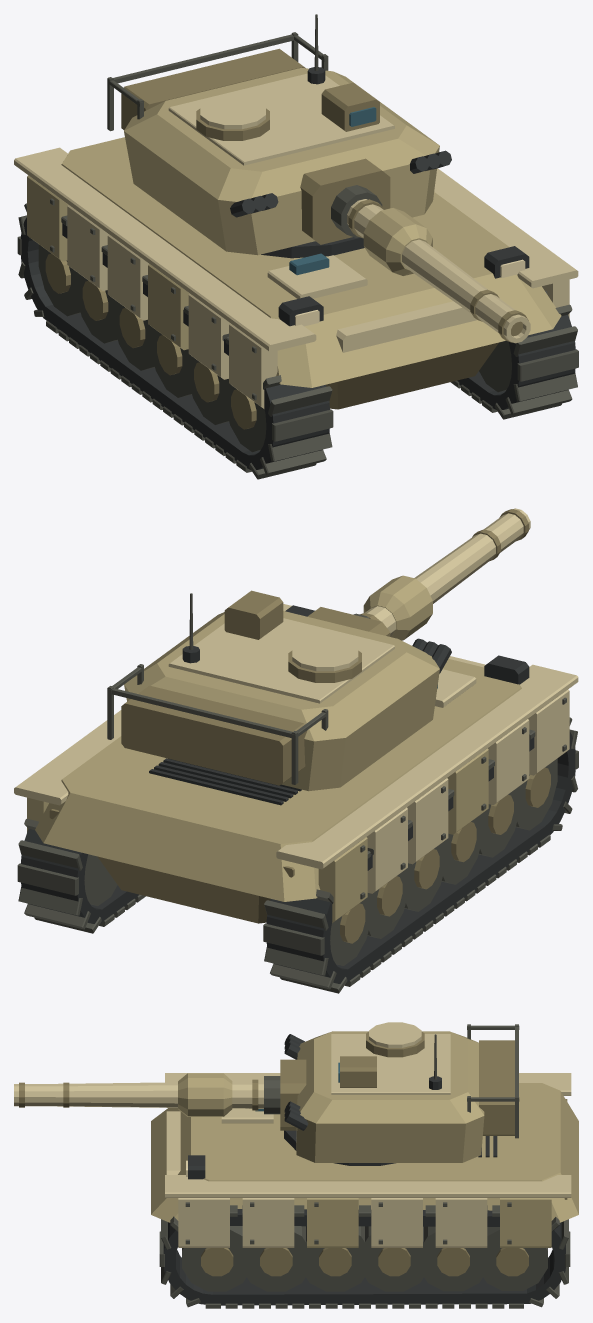
The model's file is Tank.obj.
3 renders of one model, top to bottom at view 1: azimuth 30°, elevation 25°; view 2: azimuth 150°, elevation 25°; view 3: azimuth 270°, elevation 25°, orthographic. The views are drawn at different scales.
Visible parts, largest first — view 1: UpperHull, TurretArmor, FenderL, TrackBeltL, TurretRoof, GunBarrel, LowerHull, RearStorage, FenderR, Mantlet, FrontArmor, FumeExtractor (+38 smaller); view 2: UpperHull, TurretArmor, RearStorage, FenderL, TrackBeltL, TurretRoof, LowerHull, GunBarrel, FenderR, FumeExtractor, SkirtL0, TrackBeltR (+37 smaller); view 3: UpperHull, TurretArmor, TrackBeltR, FenderR, TurretRoof, GunBarrel, RearStorage, SkirtR1, SkirtR4, SkirtR0, SkirtR3, SkirtR2 (+23 smaller).
Boxes of the visible parts, bbox=[...] form: UpperHull: bbox=[61, 137, 561, 387]; TurretArmor: bbox=[124, 67, 439, 255]; FenderL: bbox=[14, 147, 316, 352]; TrackBeltL: bbox=[21, 217, 329, 469]; TurretRoof: bbox=[168, 73, 394, 165]; GunBarrel: bbox=[347, 199, 530, 343]; LowerHull: bbox=[326, 342, 498, 409]; RearStorage: bbox=[121, 48, 305, 129]; FenderR: bbox=[434, 168, 578, 288]; Mantlet: bbox=[300, 158, 390, 244]; FrontArmor: bbox=[336, 301, 476, 352]; FumeExtractor: bbox=[363, 208, 432, 275]; UpperHull: bbox=[35, 659, 521, 901]; TurretArmor: bbox=[124, 611, 439, 791]; RearStorage: bbox=[121, 685, 307, 785]; FenderL: bbox=[276, 664, 578, 869]; TrackBeltL: bbox=[266, 731, 575, 983]; TurretRoof: bbox=[168, 618, 394, 703]; LowerHull: bbox=[97, 856, 270, 923]; GunBarrel: bbox=[365, 508, 530, 636]; FenderR: bbox=[14, 604, 291, 805]; FumeExtractor: bbox=[363, 575, 432, 640]; SkirtL0: bbox=[318, 837, 367, 922]; TrackBeltR: bbox=[21, 828, 138, 923]; UpperHull: bbox=[151, 1083, 578, 1222]; TurretArmor: bbox=[296, 1031, 484, 1162]; TrackBeltR: bbox=[163, 1209, 565, 1305]; FenderR: bbox=[165, 1175, 571, 1197]; TurretRoof: bbox=[331, 1034, 450, 1094]; GunBarrel: bbox=[14, 1081, 263, 1108]; RearStorage: bbox=[479, 1040, 514, 1135]; SkirtR1: bbox=[435, 1198, 487, 1247]; SkirtR4: bbox=[242, 1198, 294, 1247]; SkirtR0: bbox=[500, 1198, 551, 1247]; SkirtR3: bbox=[307, 1198, 358, 1247]; SkirtR2: bbox=[371, 1198, 422, 1247].
Size of the model in its own units: 2.64 by 2.43 by 5.2.
